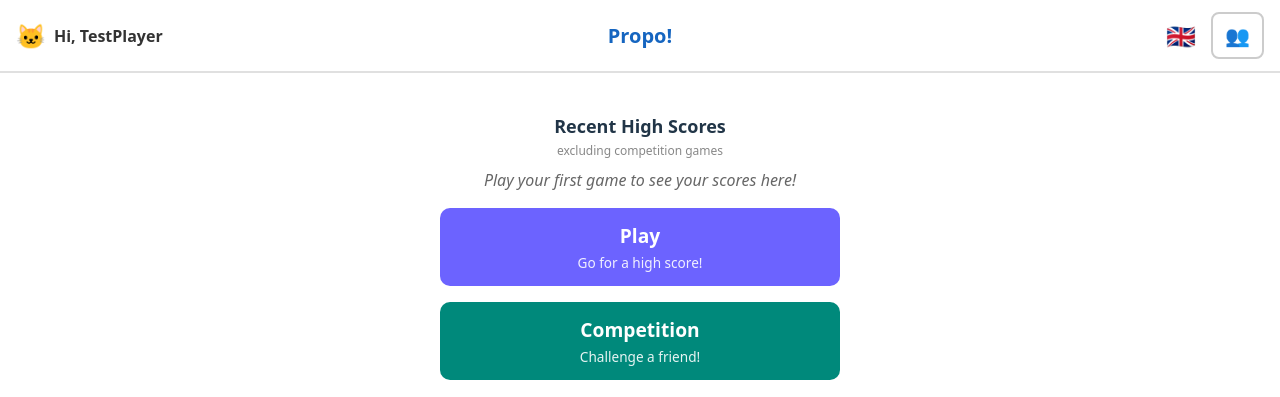
Test: MainPage — Scoring Display (US3) › progress bar is present during gameplay
The width and height of the screenshot is (1280, 397).
What coordinates should you click on to do the following:
click the button "Play Go for a high score!"
I would click on:
 (640, 247)
Its box is [440,208,840,286].
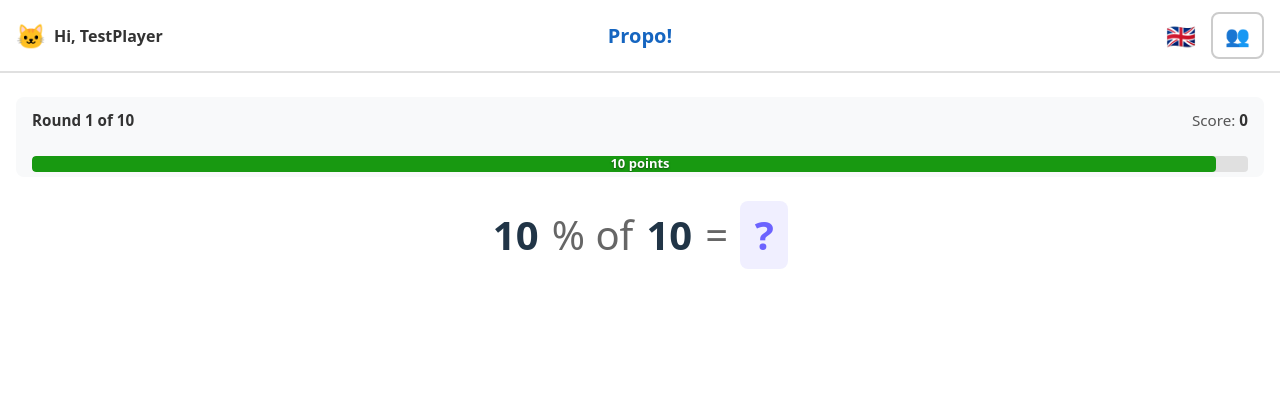
expect the progress indicator "10 points" is shown: met, box [32,156,1248,172]
